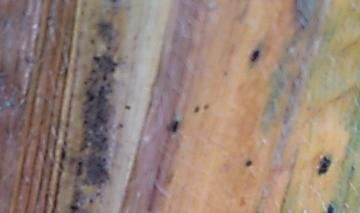tarspot: (318, 155, 331, 175), (250, 48, 260, 62), (69, 204, 80, 213), (326, 203, 335, 213), (172, 121, 179, 133), (192, 104, 200, 113), (124, 103, 132, 111), (92, 55, 100, 63), (203, 103, 212, 110), (245, 159, 252, 168), (117, 122, 125, 129), (88, 95, 95, 103), (82, 119, 89, 126), (77, 160, 83, 168), (102, 74, 108, 81)
